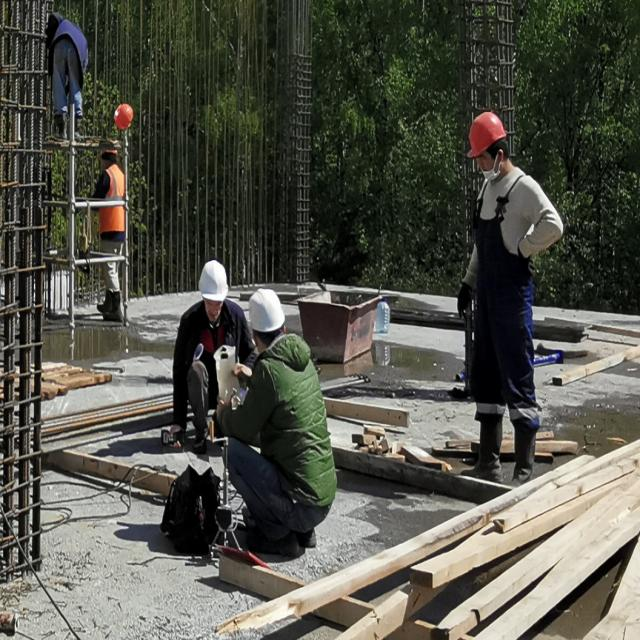Helmet: (469, 114, 513, 184), (248, 288, 288, 355), (198, 260, 232, 326), (97, 145, 120, 171)
